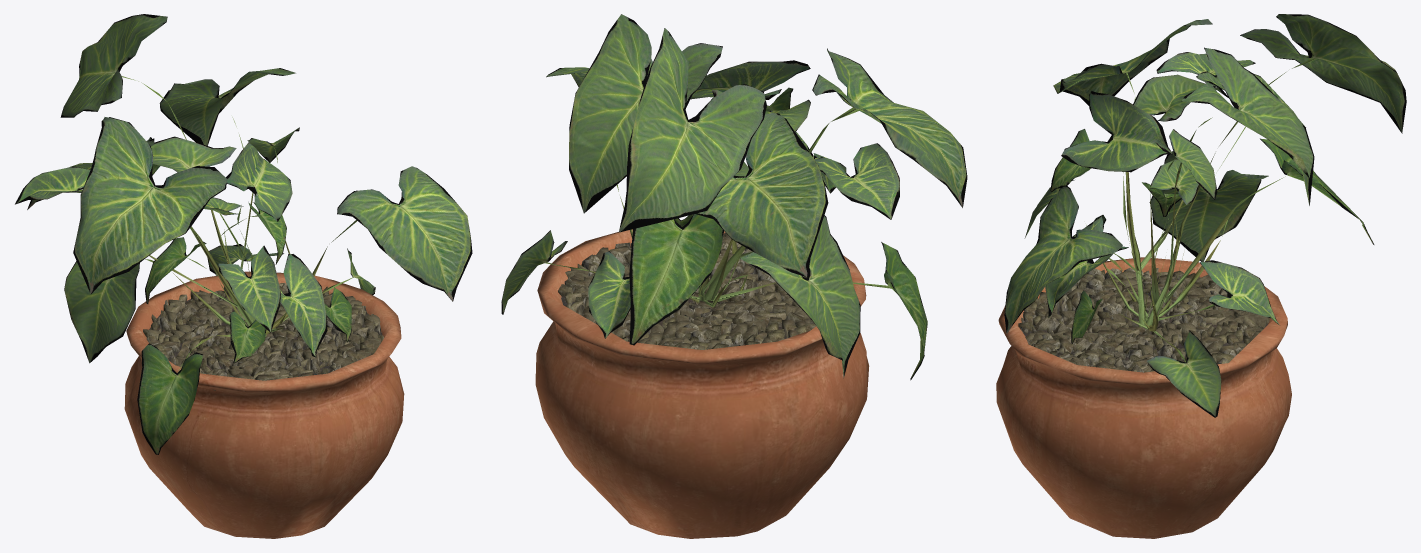
Rendered from potted_plant_02.gltf.
3 renders of one model, left to right at view 1: azimuth 30°, elevation 25°; view 2: azimuth 150°, elevation 25°; view 3: azimuth 270°, elevation 25°, orthographic. The views are drawn at different scales.
Parts seen in each view (by area): view 1: potted_plant_02_leaves, potted_plant_02_pot, potted_plant_02_dirt; view 2: potted_plant_02_leaves, potted_plant_02_pot, potted_plant_02_dirt; view 3: potted_plant_02_leaves, potted_plant_02_pot, potted_plant_02_dirt.
Part boxes in pixels (box(x1,y1,x2,y2)): potted_plant_02_leaves: box(15, 14, 472, 454); potted_plant_02_pot: box(124, 271, 404, 538); potted_plant_02_dirt: box(143, 283, 383, 390); potted_plant_02_leaves: box(501, 14, 967, 380); potted_plant_02_pot: box(535, 229, 869, 538); potted_plant_02_dirt: box(558, 232, 815, 349); potted_plant_02_leaves: box(1004, 14, 1406, 417); potted_plant_02_pot: box(996, 257, 1291, 538); potted_plant_02_dirt: box(1018, 268, 1269, 372).
Bounding box in the file's own units: 0.7009 × 0.8395 × 0.6561.
Materials: 2 (2 with a texture image).
